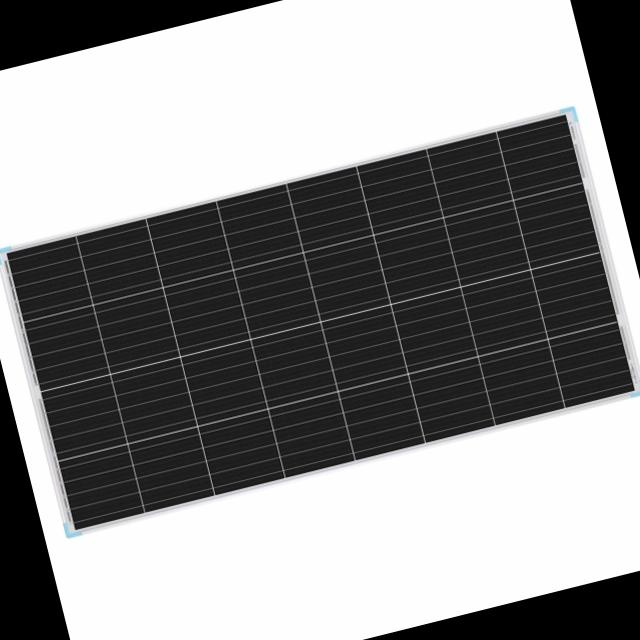no faulty: (9, 117, 634, 528)
